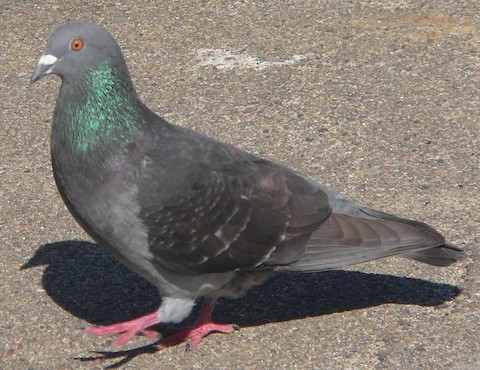pigeon: (30, 16, 469, 359)
